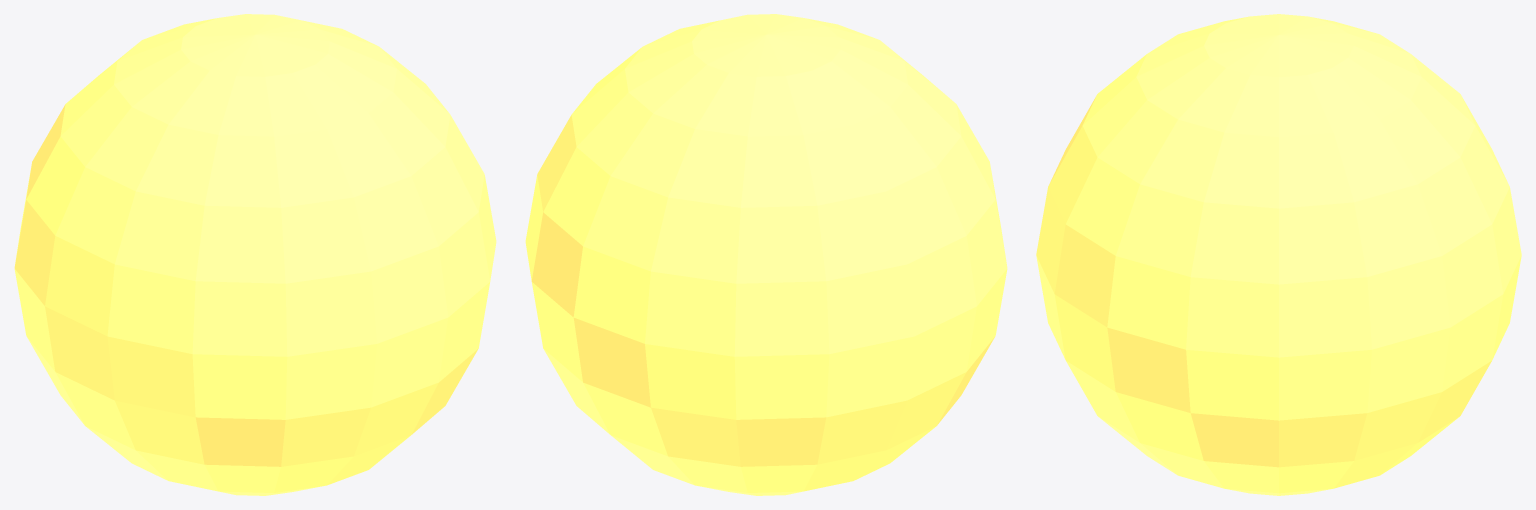
The model's file is prop_lantern_gate.glb.
3 renders of one model, left to right at view 1: azimuth 30°, elevation 25°; view 2: azimuth 150°, elevation 25°; view 3: azimuth 270°, elevation 25°, orthographic.
Visible parts, largest first — view 1: PROP_Lantern_Gate; view 2: PROP_Lantern_Gate; view 3: PROP_Lantern_Gate.
Part boxes in pixels (<box>): PROP_Lantern_Gate: <box>14,14,496,495</box>; PROP_Lantern_Gate: <box>525,14,1007,495</box>; PROP_Lantern_Gate: <box>1036,14,1521,495</box>.
Bounding box in the file's own units: 0.7 × 0.7 × 0.7.
